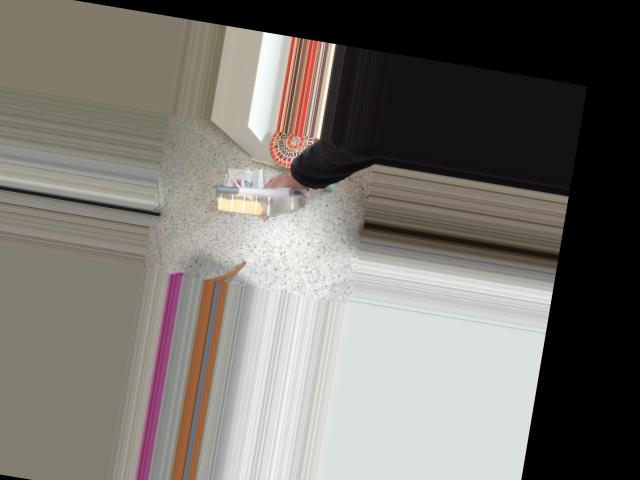cheese: (206, 128, 297, 246)
